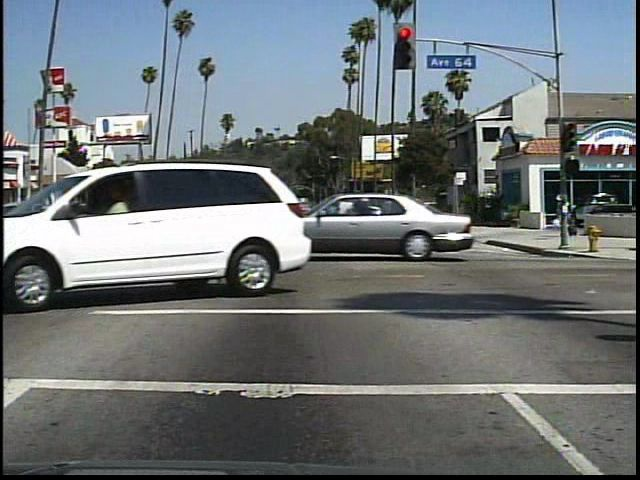person: (550, 188, 577, 234)
